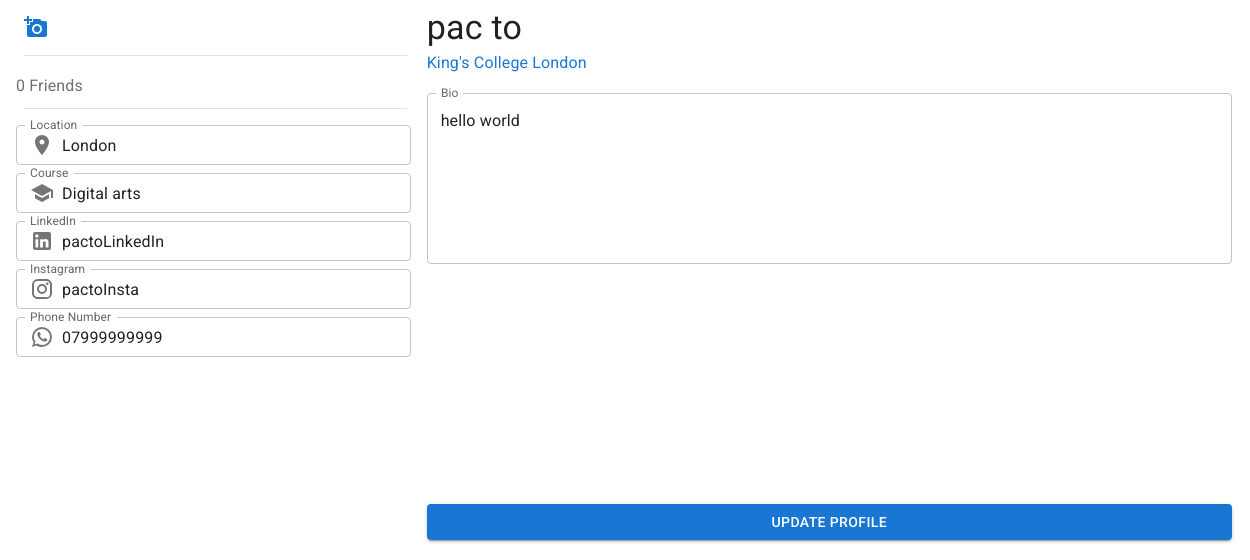
Test: Edit Profile Page Tests › Handles field errors › Shows linkedin field error
Step 1. Click the button "Update Profile" → (829, 522), box [427,504,1232,540]
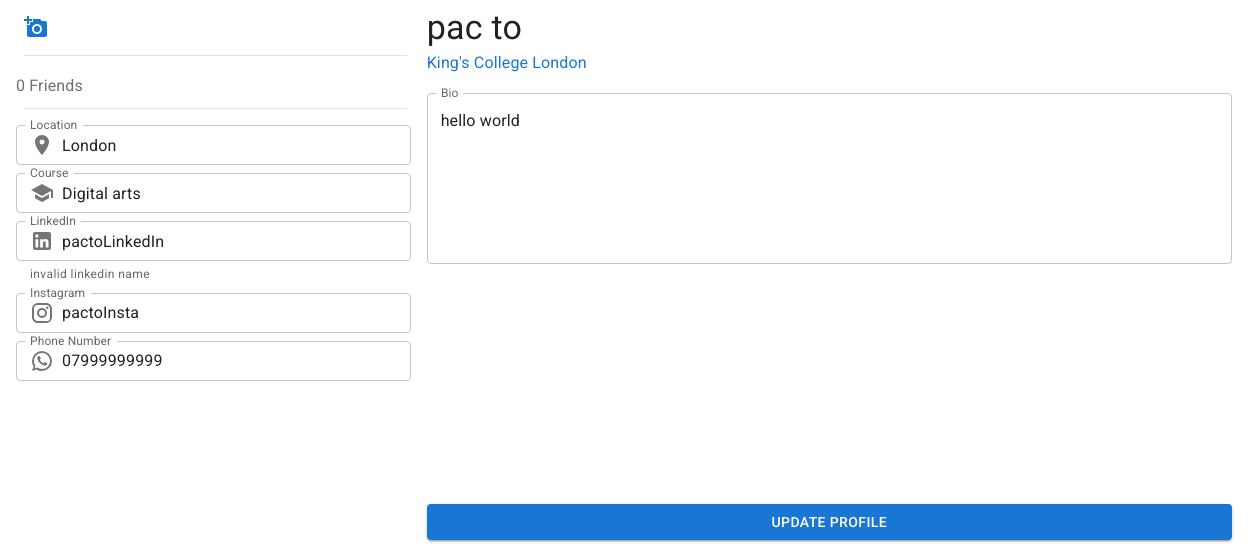
Expected: the text "invalid linkedin name" is shown, [30,267,150,281]
